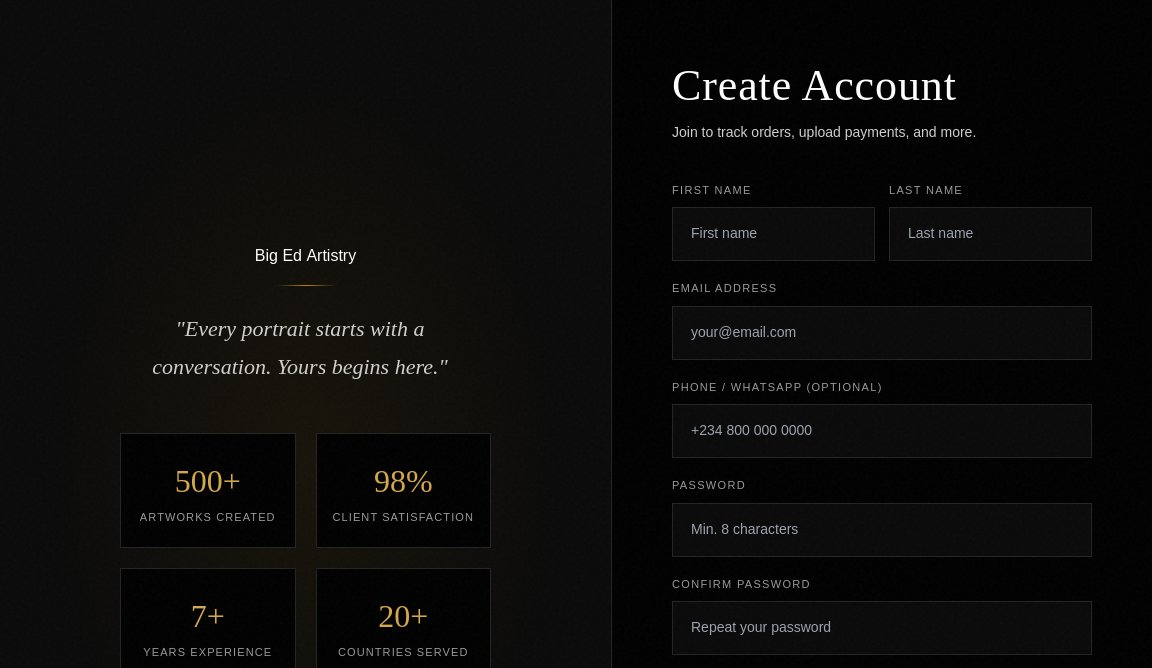
Test: RegisterPage › shows error when password is too short
Type "John" into the field with placeholder "First name". click: (774, 234)
box: [672,207,875,261]
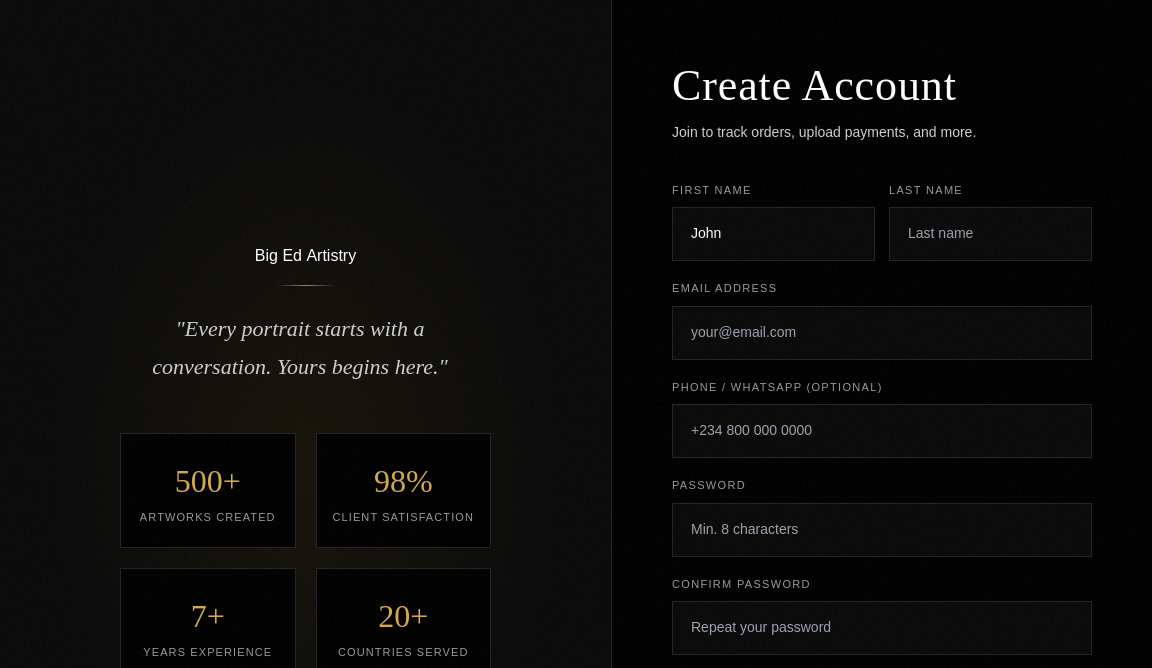
Type "Doe" into the field with placeholder "Last name". click: (990, 234)
box: [889,207,1092,261]
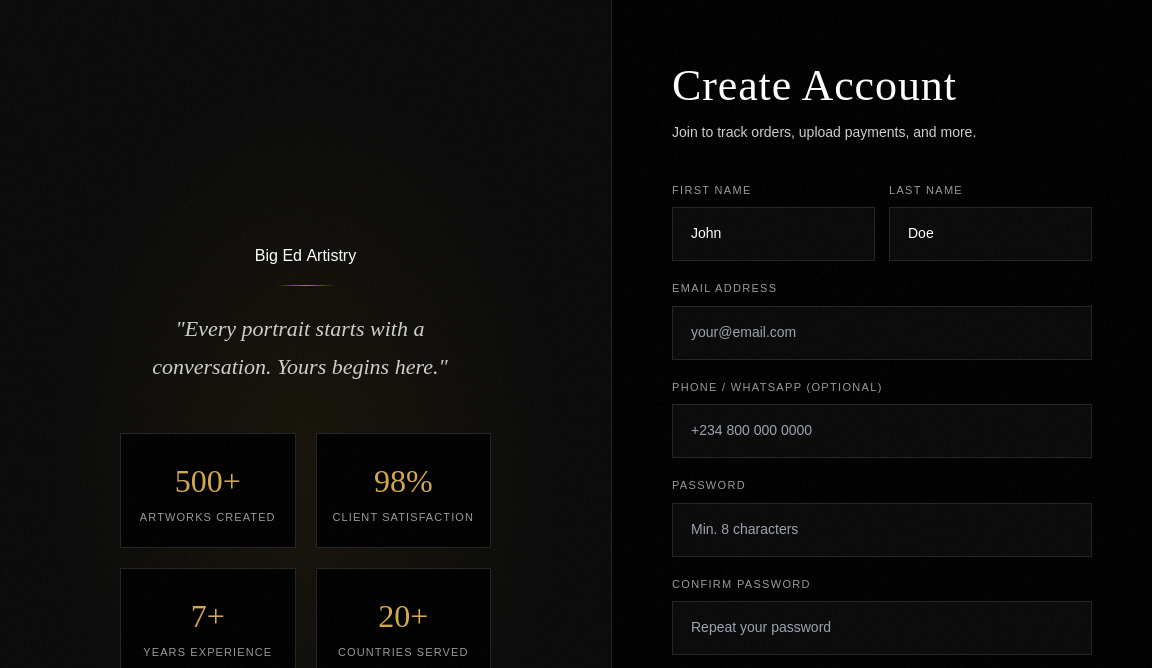
Type "john@test.com" into the field with placeholder "your@email.com". click: (882, 333)
box: [672,306,1092,360]
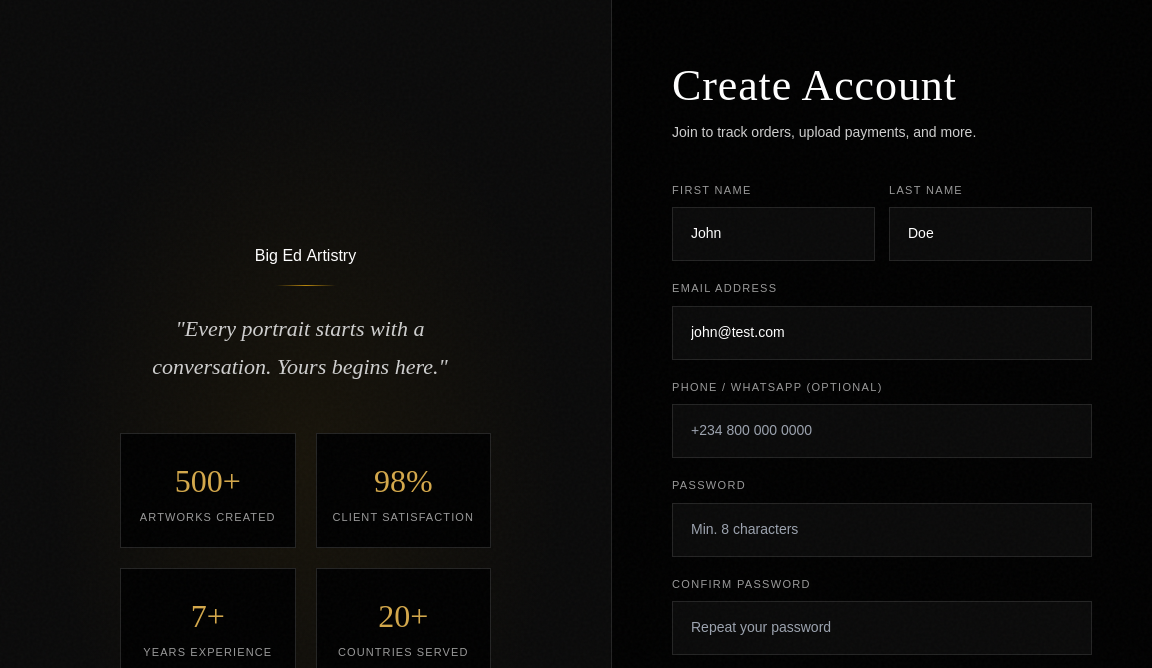
Type "short" into the password field with placeholder "Min. 8 characters". click: (882, 530)
box: [672,503,1092,556]
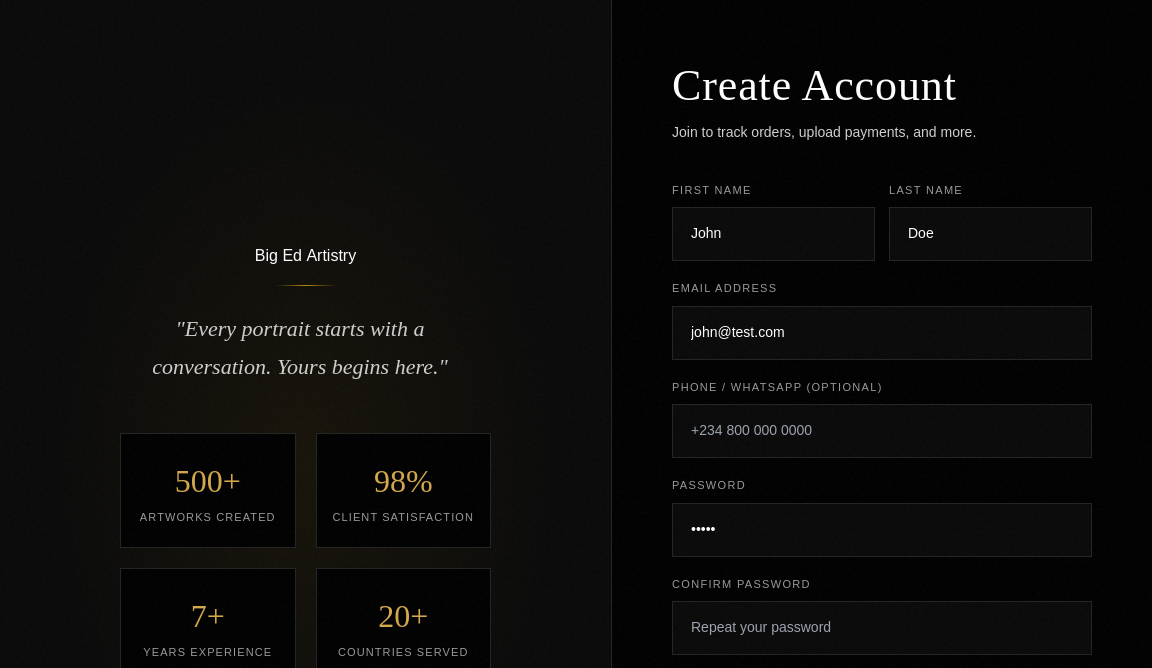
Type "short" into the password field with placeholder "Repeat your password". click: (882, 628)
box: [672,601,1092,655]
(page scrolled)
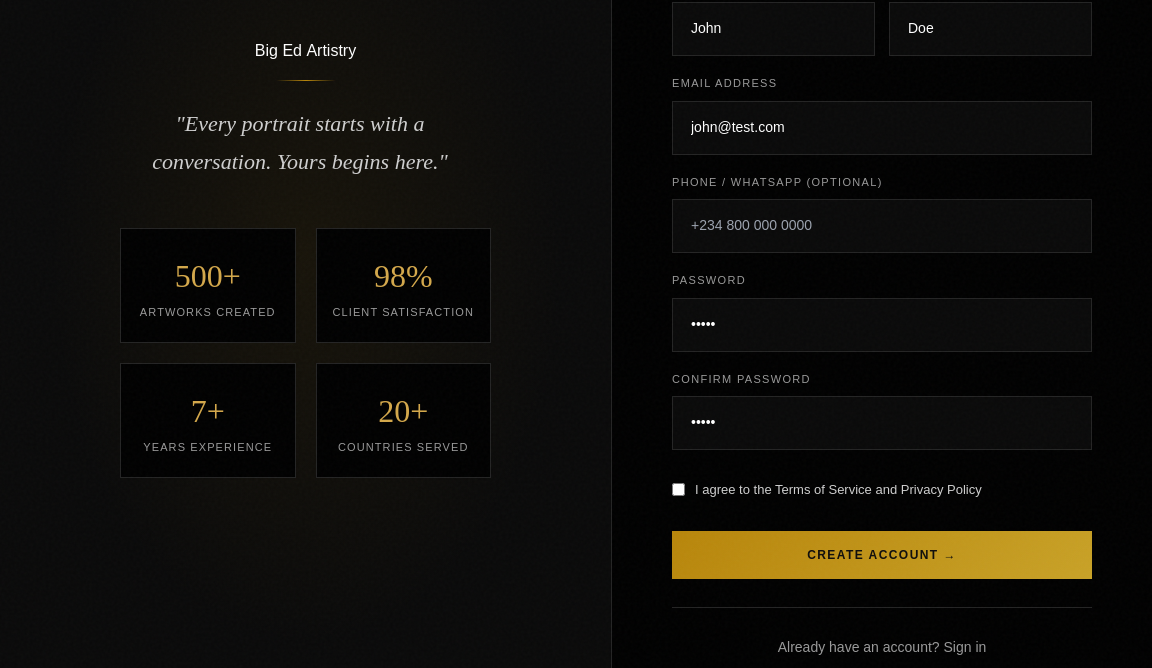
Click the button "Create Account →". click: click(882, 555)
box: [672,531,1092,579]
(page scrolled)
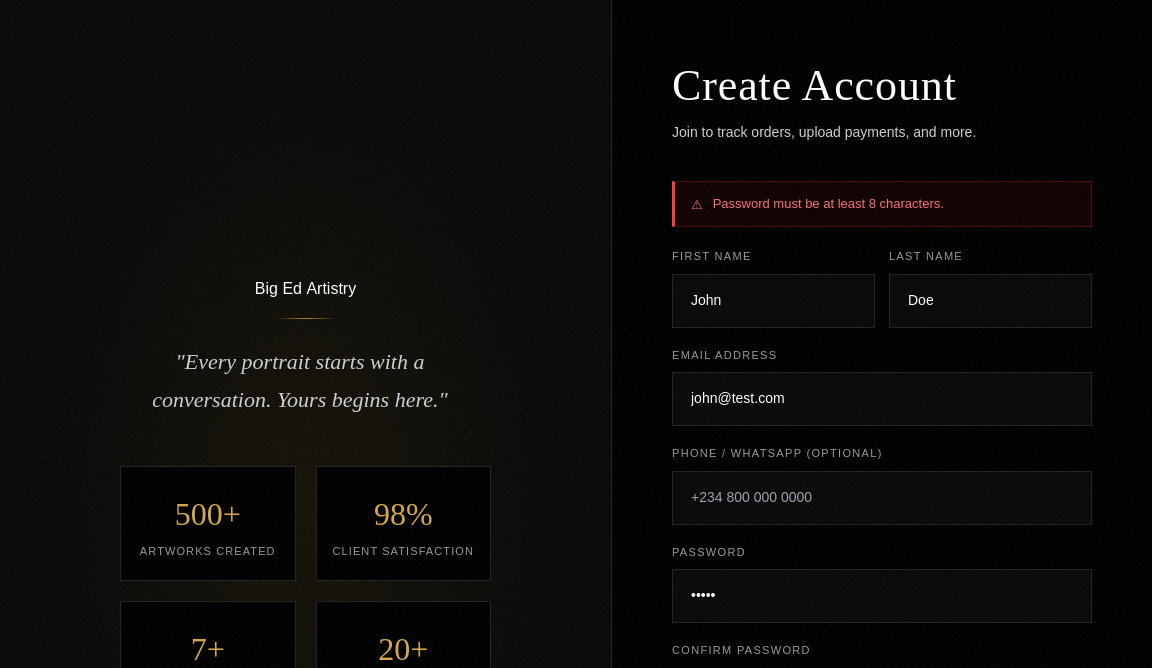
expect the text "Password must be at least 8 characters." is shown: met, box [713,194,944,213]
